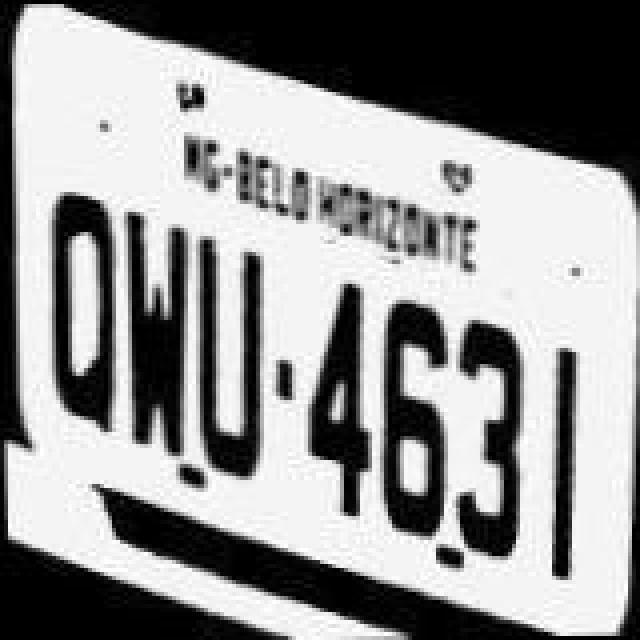1: (532, 322, 596, 598)
3: (448, 302, 528, 566)
4: (296, 268, 376, 540)
6: (372, 284, 452, 544)
Q: (34, 180, 122, 452)
U: (190, 210, 270, 482)
W: (114, 186, 194, 458)
